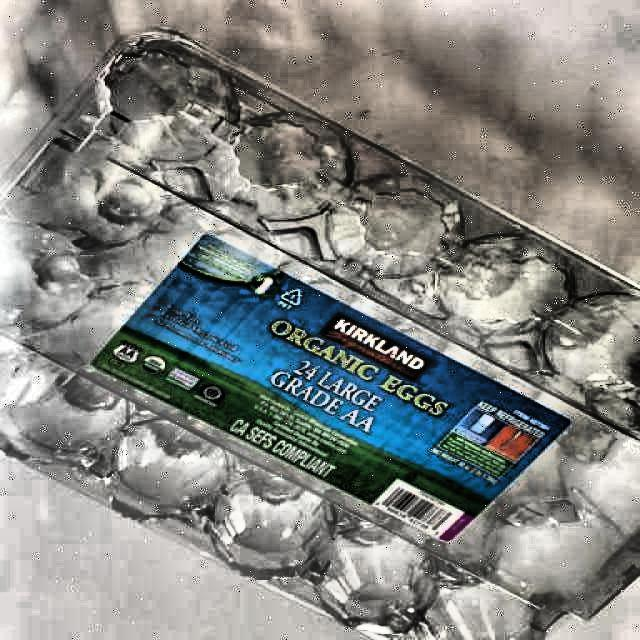plastic: (0, 34, 640, 640)
